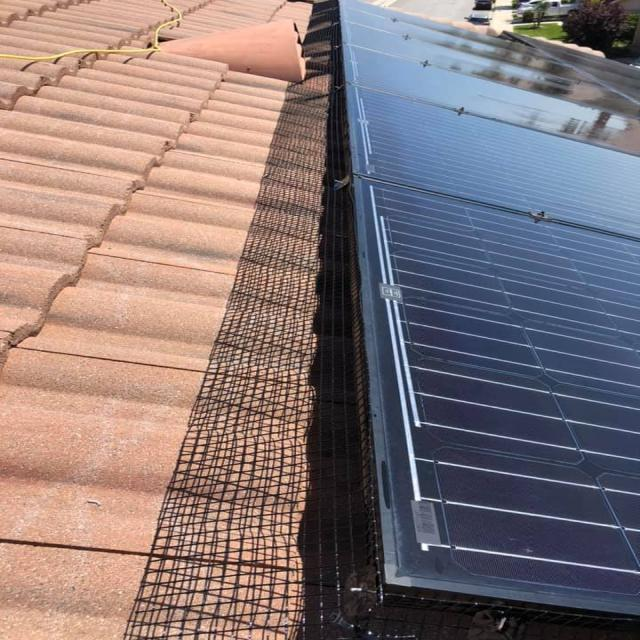clean-solar-panel: (340, 0, 638, 615)
